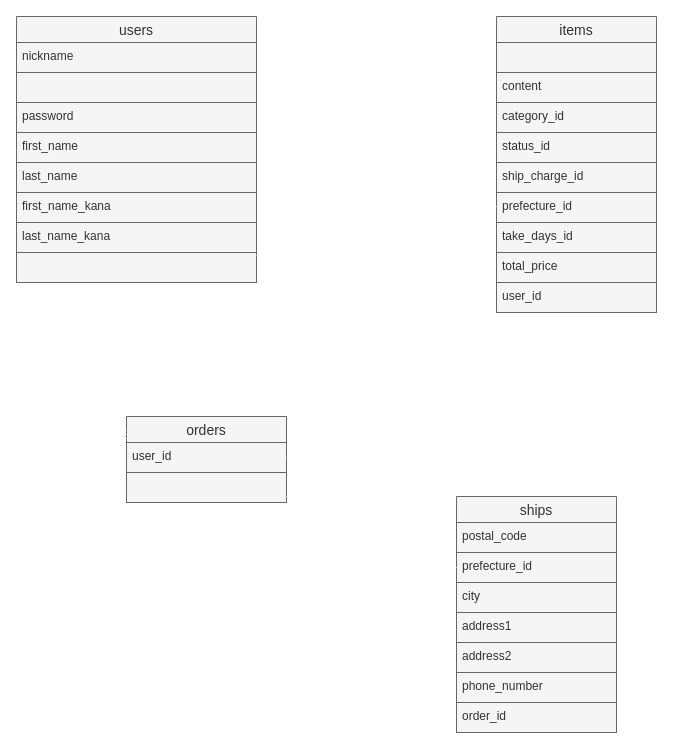
Some shapes in this 673 by 749 pixel diagram are drawn without their labels. Each missing label, with the centre of its shape:
birthday: (x=136, y=267)
email: (x=136, y=87)
item_id: (x=206, y=487)
item_name: (x=576, y=57)
